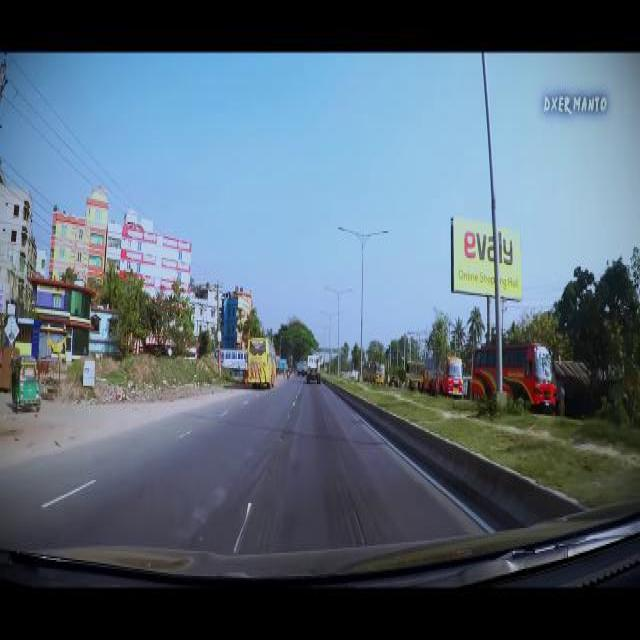bus: (470, 341, 556, 406), (422, 356, 462, 394), (246, 334, 276, 384), (212, 347, 245, 368), (403, 358, 422, 388), (368, 361, 384, 382)
three wheelers -CNG-: (10, 352, 40, 409)
truck: (306, 353, 320, 383)
